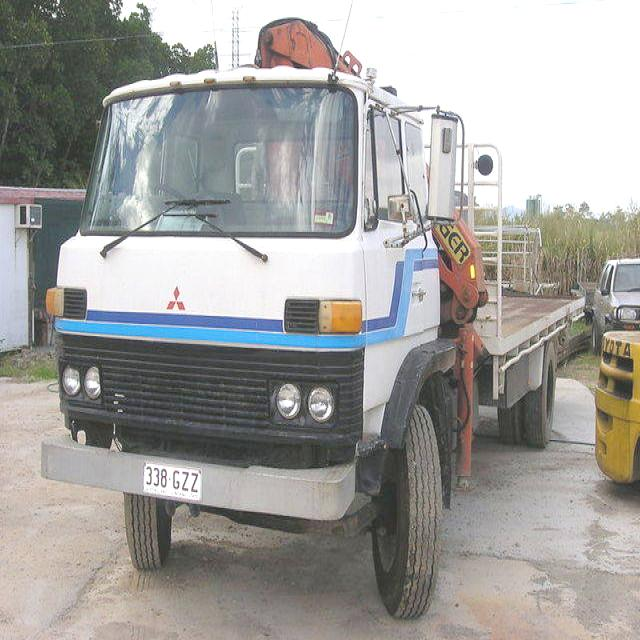truck: (39, 16, 587, 620)
